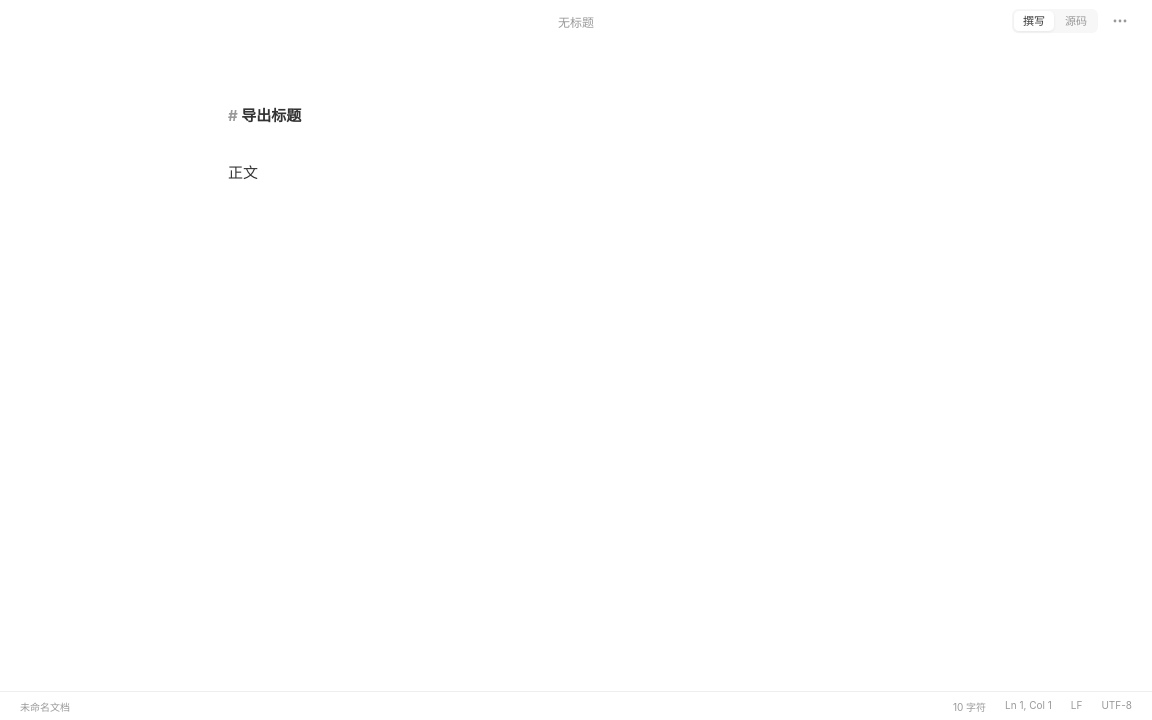
offers Word and PDF export from the document menu and shows completion
This screenshot has width=1152, height=720.
Expected: the field named "文档编辑器" is shown, [228,106,301,182]
Click the button named "文档操作" at x=1120, y=21, box [1106,7,1134,35]
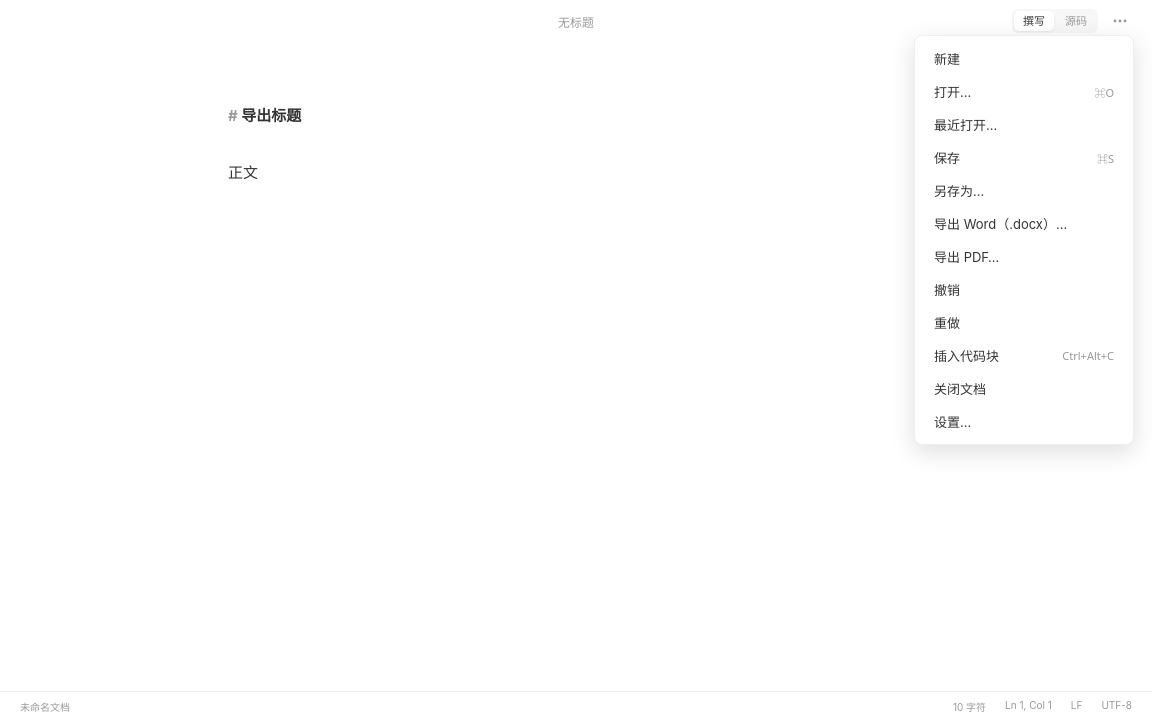
Expected: the button "导出 Word（.docx）…" is enabled, [921,207,1127,240]
Click the button "导出 PDF…" at x=1024, y=256, box [921,240,1127,273]
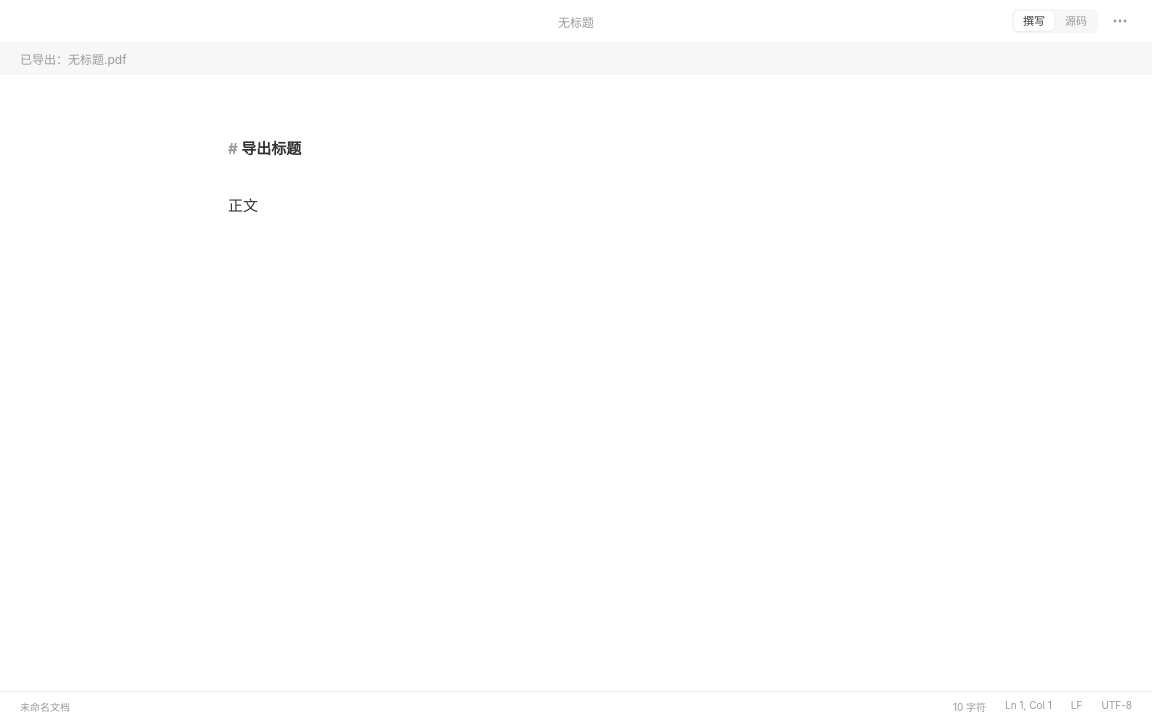
Expected: the field named "文档编辑器" is shown, [228,139,301,215]
Expected: the text "已导出：无标题.pdf" is shown, [0,42,1151,75]
